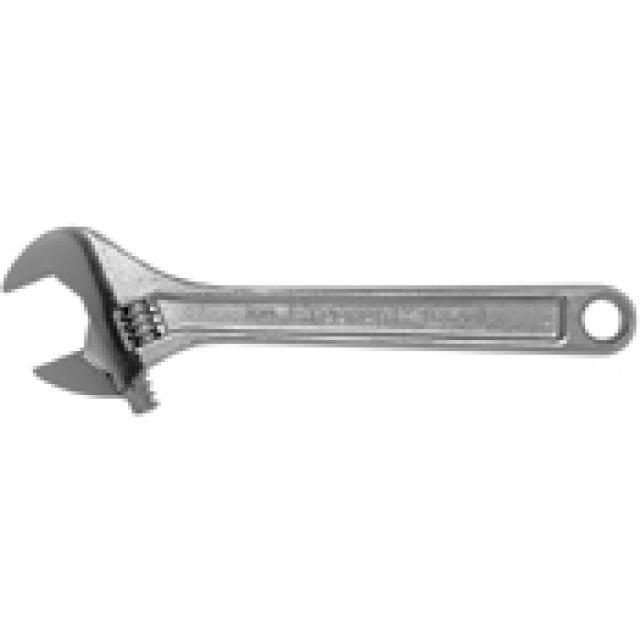wrench: (0, 218, 640, 422)
